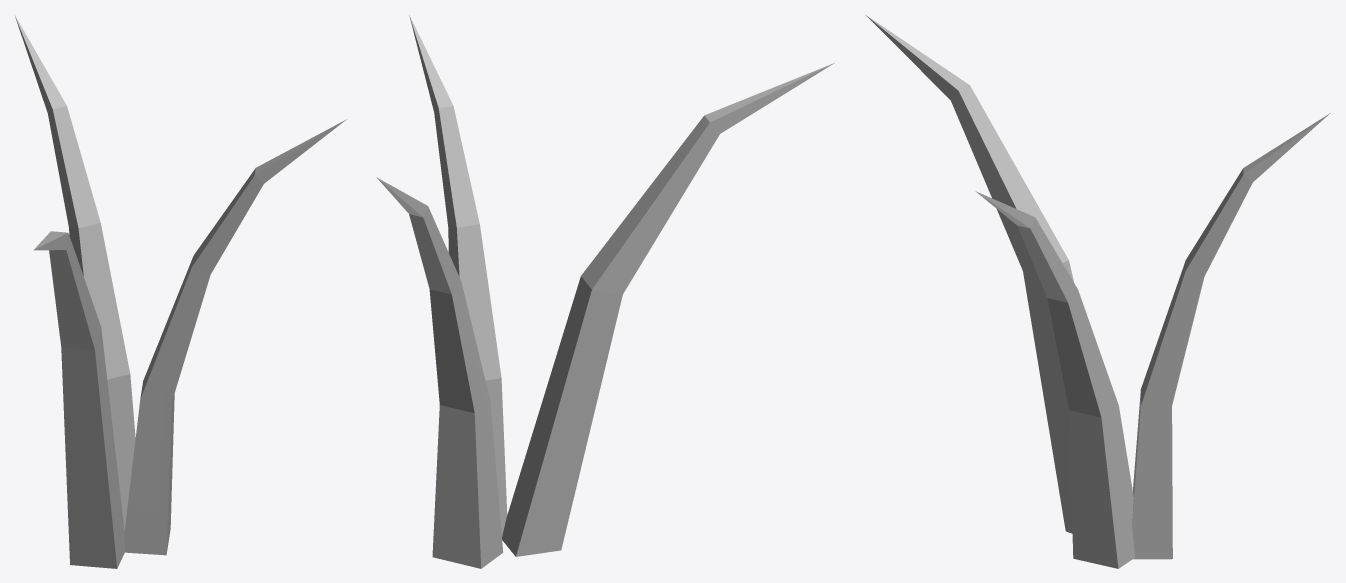
The model's file is Grass_12.fbx.
The picture shows the model from 3 angles, left to right: view 1: azimuth 30°, elevation 25°; view 2: azimuth 150°, elevation 25°; view 3: azimuth 270°, elevation 25°; orthographic projection. The views are drawn at different scales.
Visible parts, largest first — view 1: Grass_12; view 2: Grass_12; view 3: Grass_12.
Part boxes in pixels (left/top/right/bottom): Grass_12: left=14, top=15, right=346, bottom=568; Grass_12: left=376, top=15, right=834, bottom=568; Grass_12: left=865, top=14, right=1330, bottom=568.
Bounding box in the file's own units: 0.8401 × 0.971 × 0.9405.
